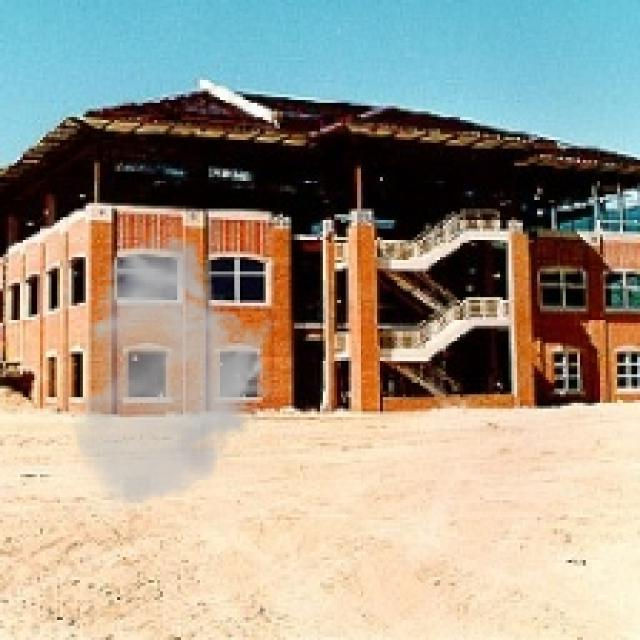Smoke: (71, 232, 278, 512)
